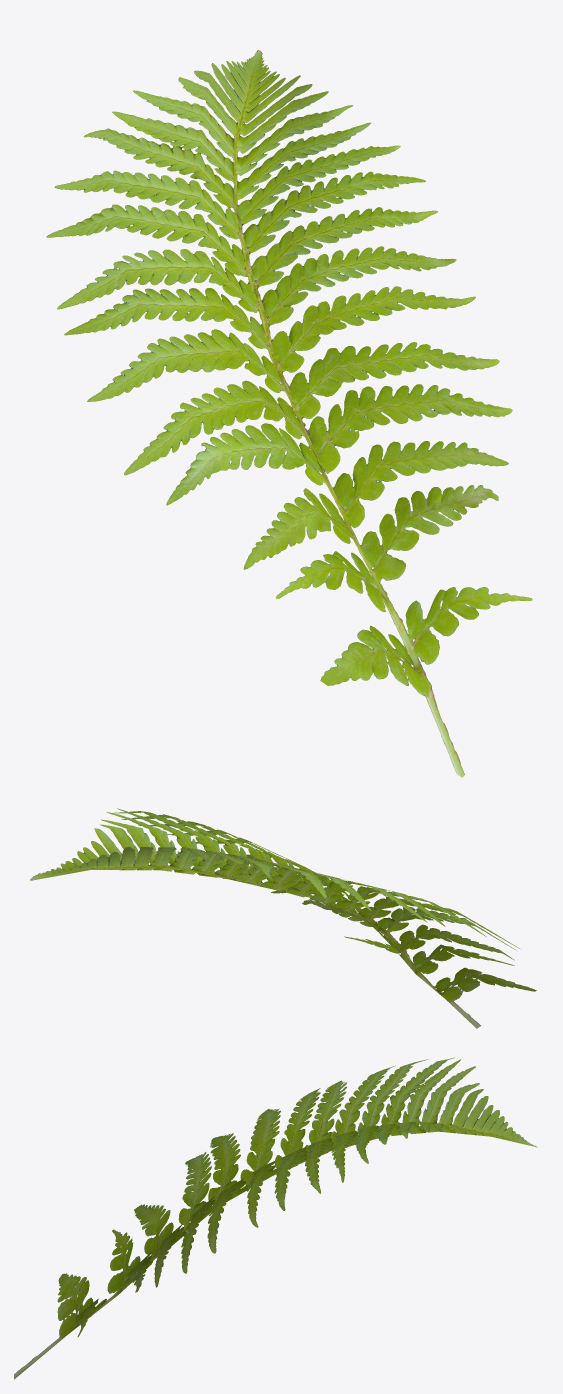
File: fern_02.fbx
The picture shows the model from 3 angles, top to bottom: view 1: azimuth 30°, elevation 25°; view 2: azimuth 150°, elevation 25°; view 3: azimuth 270°, elevation 25°; orthographic projection. The views are drawn at different scales.
Visible parts, largest first — view 1: pPlane13; view 2: pPlane13; view 3: pPlane13.
Boxes of the visible parts, left/top/right/bottom form: pPlane13: left=46, top=50, right=532, bottom=777; pPlane13: left=30, top=808, right=536, bottom=1028; pPlane13: left=14, top=1057, right=537, bottom=1379.
Size of the model in its own units: 53.49 by 55.94 by 85.45.
